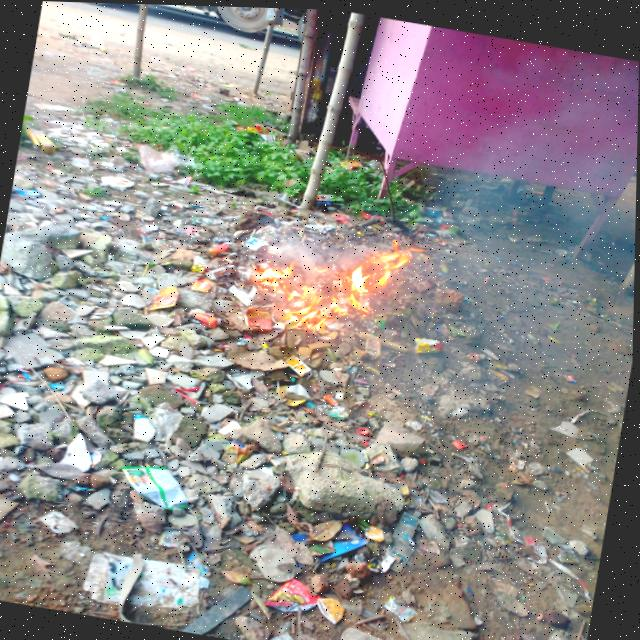Fire: (250, 217, 424, 344)
